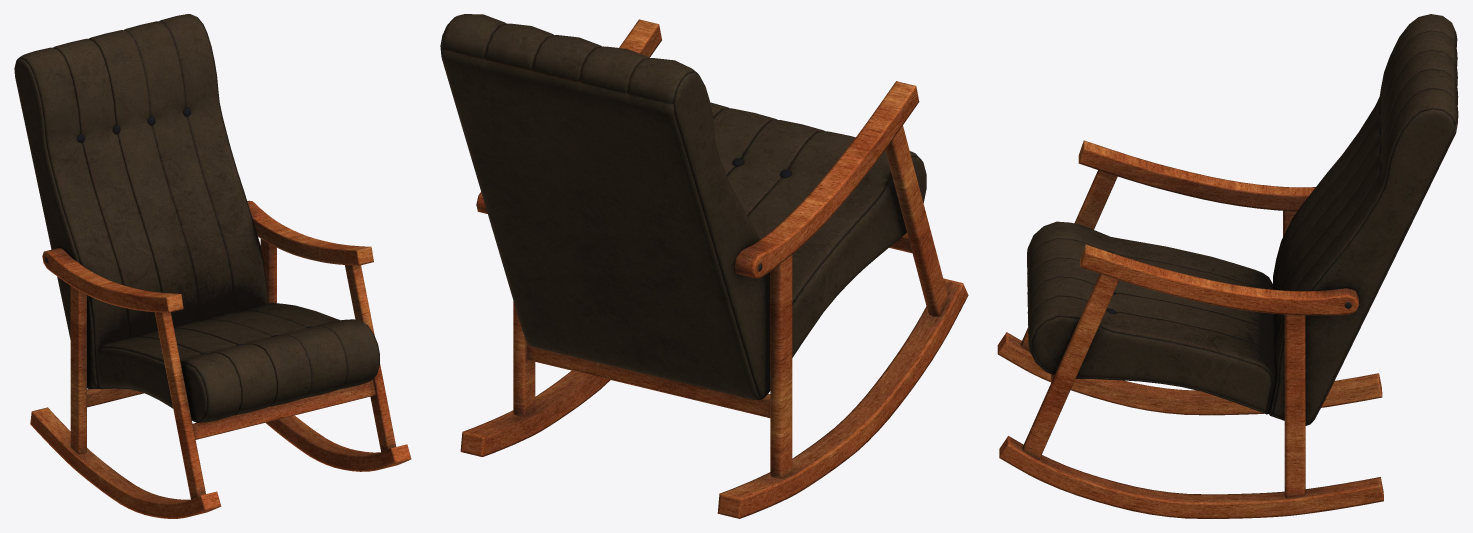
Rendered from rocking-chair.glb.
3 renders of one model, left to right at view 1: azimuth 30°, elevation 25°; view 2: azimuth 150°, elevation 25°; view 3: azimuth 270°, elevation 25°, orthographic. The views are drawn at different scales.
Parts seen in each view (by area): view 1: Rocking_Chair; view 2: Rocking_Chair; view 3: Rocking_Chair.
Part boxes in pixels (x1,y1,x2,y2): Rocking_Chair: (14,14,411,518); Rocking_Chair: (440,14,968,518); Rocking_Chair: (997,14,1458,518).
Bounding box in the file's own units: 0.273 × 0.4534 × 0.4675.
Materials: 1 (1 with a texture image).
